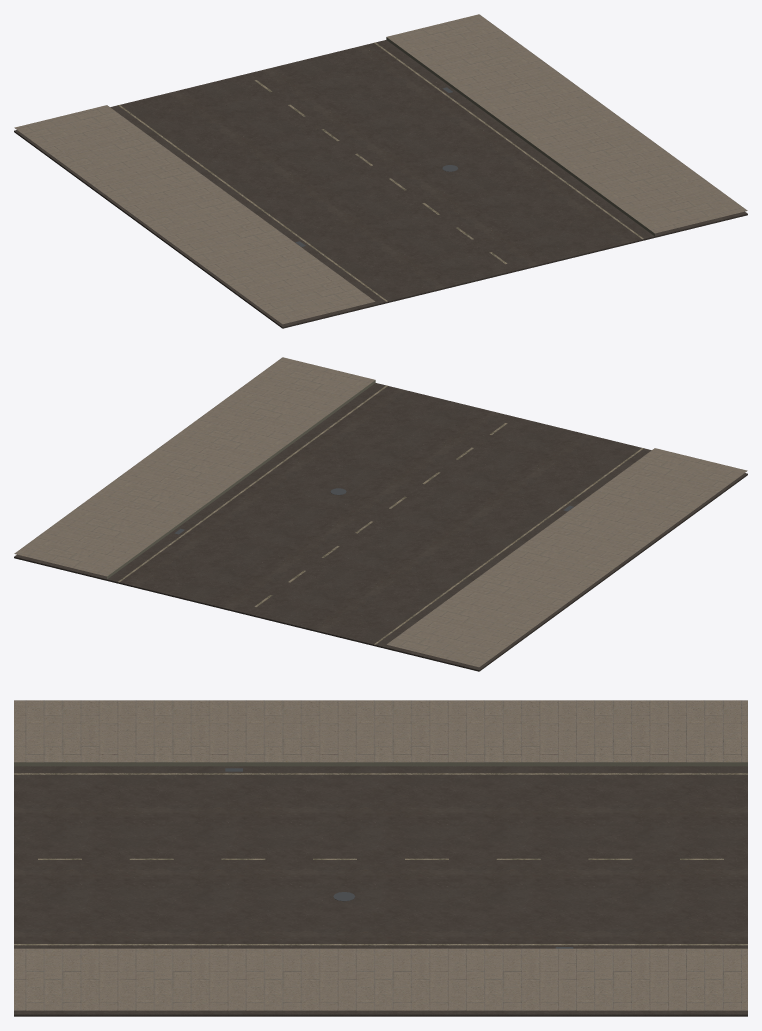
File: road_straight.glb
The picture shows the model from 3 angles, top to bottom: view 1: azimuth 30°, elevation 25°; view 2: azimuth 150°, elevation 25°; view 3: azimuth 270°, elevation 25°; orthographic projection. The views are drawn at different scales.
Parts seen in each view (by area): view 1: road_straight_body; view 2: road_straight_body; view 3: road_straight_body.
Boxes of the visible parts, <box> form: road_straight_body: <box>14,14,747,328</box>; road_straight_body: <box>14,357,747,671</box>; road_straight_body: <box>14,700,747,1016</box>.
Size of the model in its own units: 1 by 0.009 by 1.
6 materials, 5 textured.
